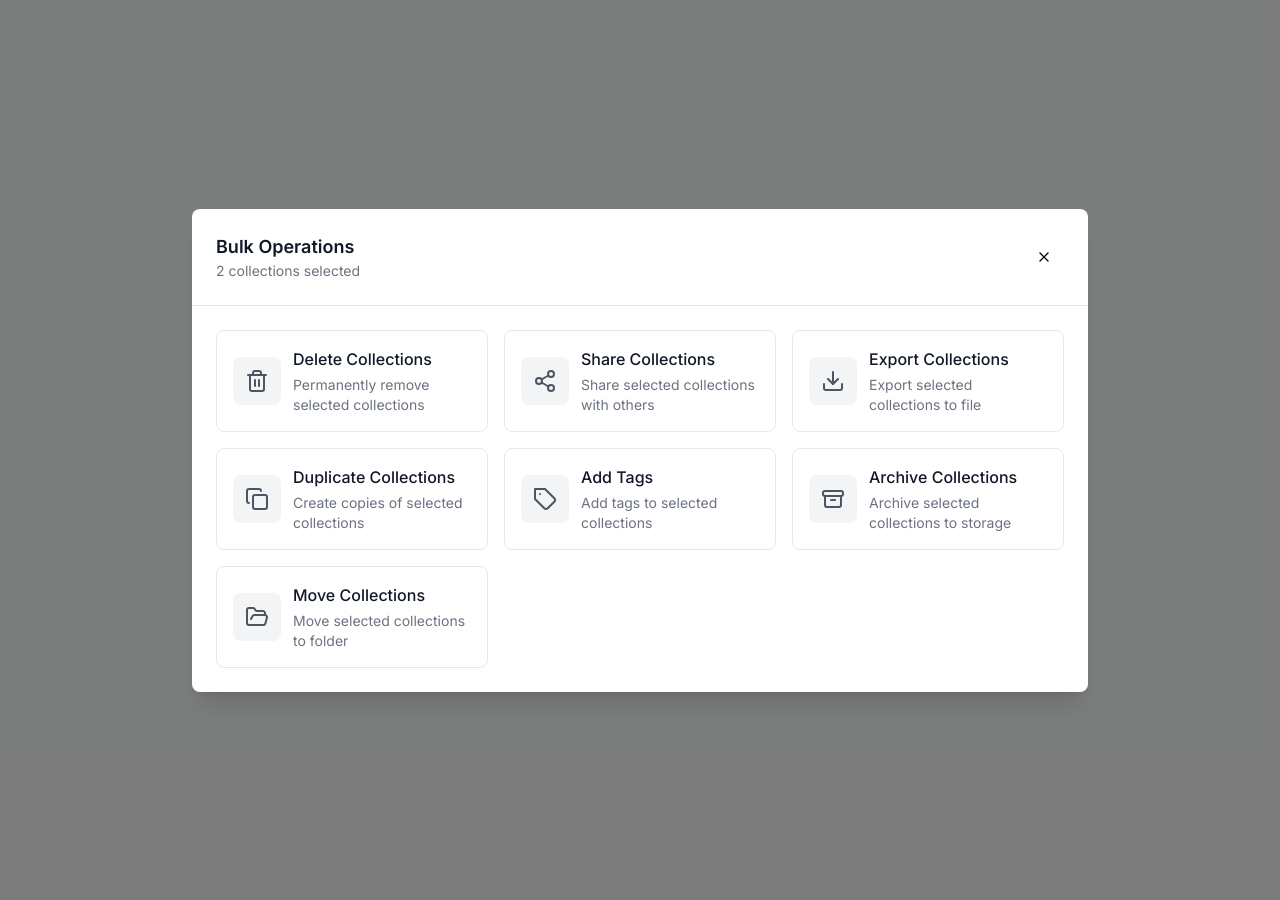
it: BulkOperations › shows share options when share is selected
Click the heading "Share Collections": (648, 358) [581,348,715,368]
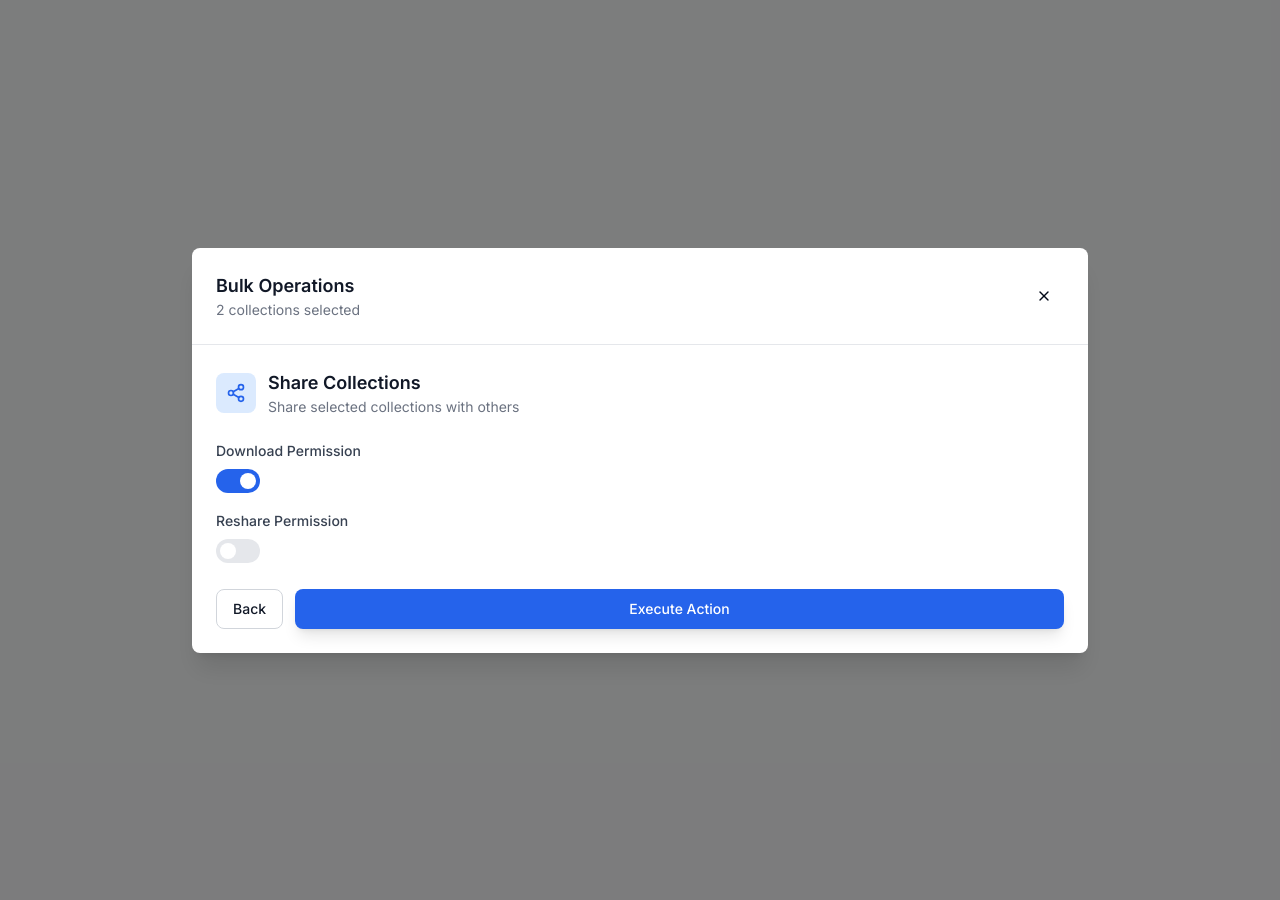
Now the text "Download Permission" is shown, box [216,442,361,458]
Now the text "Reshare Permission" is shown, box [216,512,348,528]
